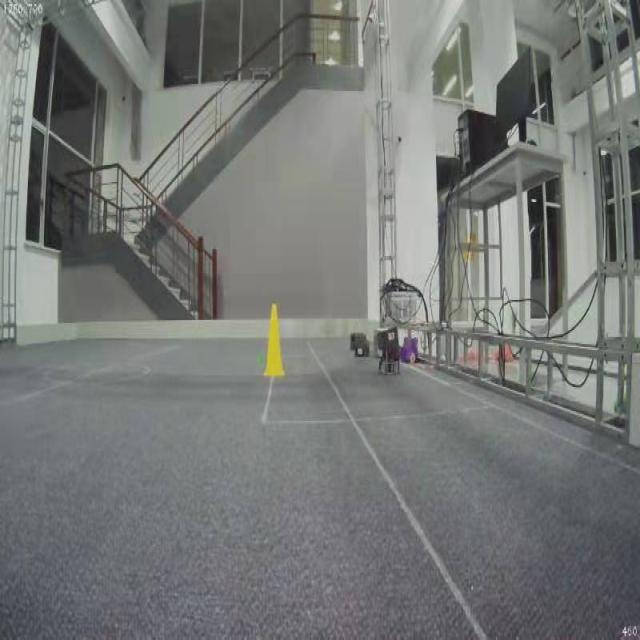cone: (262, 303, 284, 375)
